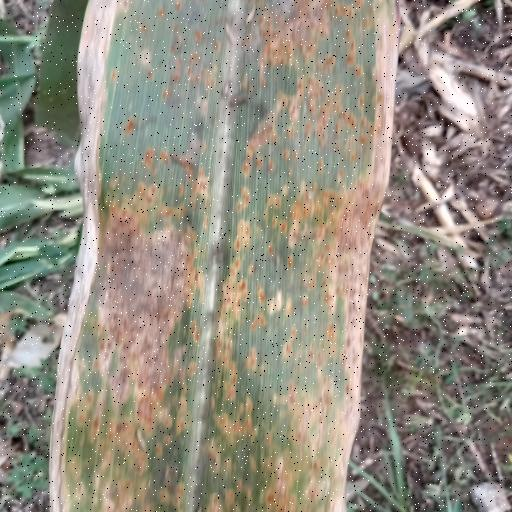Corn_Rust: (45, 0, 405, 512)
